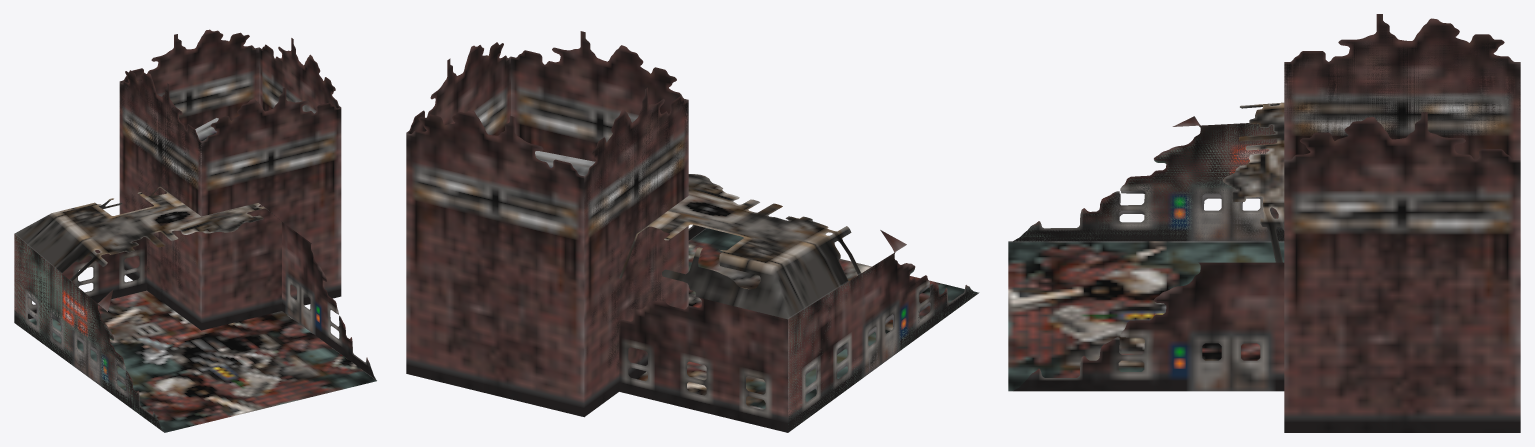
Rendered from industrialplant_dam.glb.
The picture shows the model from 3 angles, left to right: view 1: azimuth 30°, elevation 25°; view 2: azimuth 150°, elevation 25°; view 3: azimuth 270°, elevation 25°; orthographic projection. The views are drawn at different scales.
Visible parts, largest first — view 1: IndustrialPlant Damaged; view 2: IndustrialPlant Damaged; view 3: IndustrialPlant Damaged.
Boxes of the visible parts, x1=… form: IndustrialPlant Damaged: x1=14, y1=29, x2=376, y2=432; IndustrialPlant Damaged: x1=406, y1=31, x2=979, y2=432; IndustrialPlant Damaged: x1=1008, y1=14, x2=1520, y2=432.
Size of the model in its own units: 16.74 by 13.4 by 18.93.
2 materials, 2 textured.
